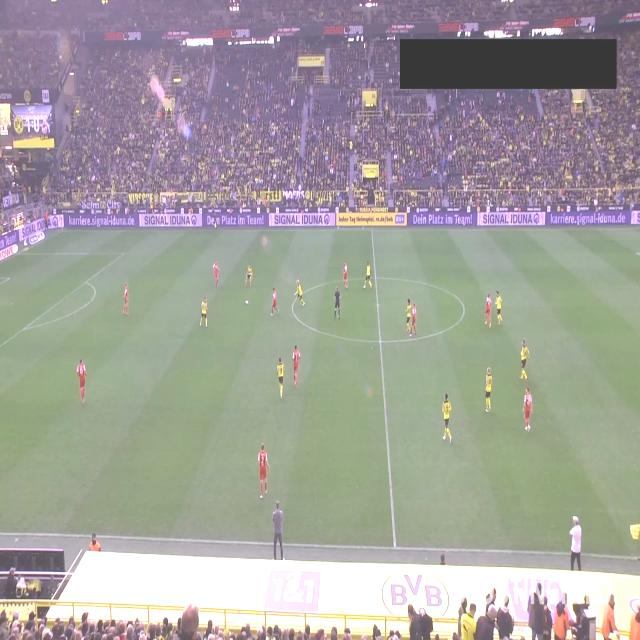ball: (245, 298, 249, 310)
f_player: (255, 437, 272, 497), (601, 594, 621, 640), (520, 386, 536, 438), (441, 394, 453, 444), (518, 340, 532, 382), (404, 296, 418, 336), (78, 358, 89, 402), (484, 368, 494, 411), (275, 356, 285, 398), (484, 292, 494, 328), (292, 347, 302, 382), (496, 292, 506, 326), (294, 280, 306, 308), (199, 297, 209, 330), (244, 260, 254, 292), (364, 262, 375, 290), (123, 284, 131, 316), (334, 290, 342, 318), (212, 261, 220, 289), (272, 288, 280, 316), (342, 261, 349, 289)
umpire: (212, 213, 218, 235)
